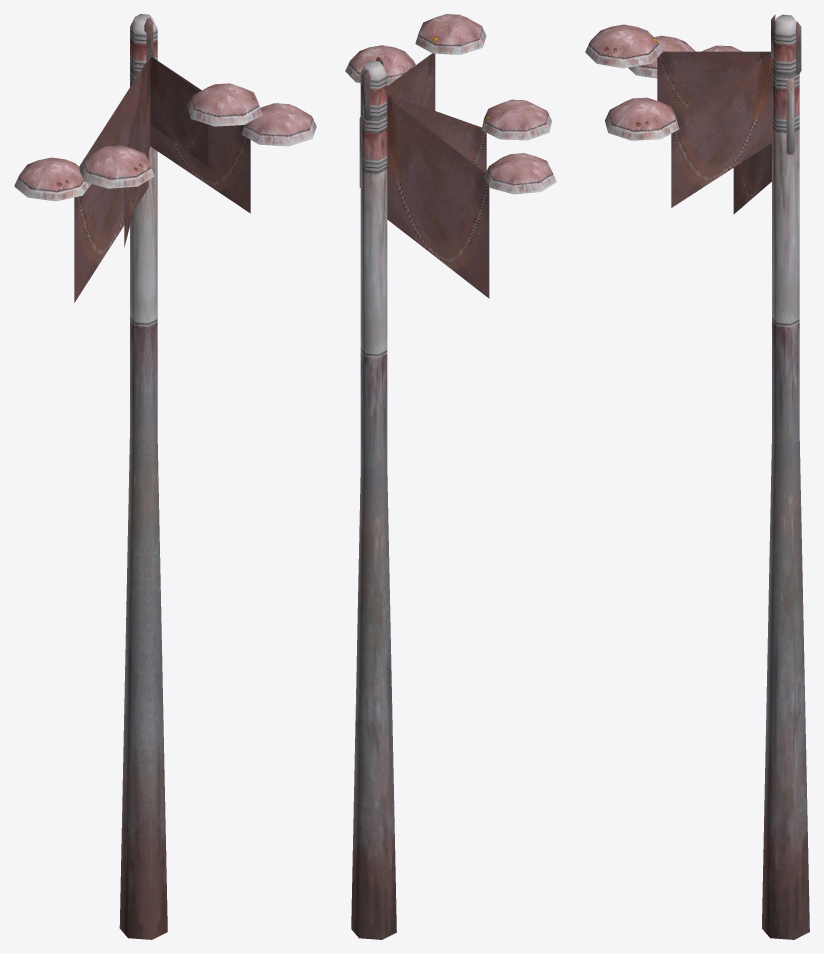
Rendered from mun_all_imprv_streetlamp_m_s02_l0.fbx.
3 views of the same model, side by side, from view 1: azimuth 30°, elevation 25°; view 2: azimuth 150°, elevation 25°; view 3: azimuth 270°, elevation 25° (orthographic). The views are drawn at different scales.
Parts seen in each view (by area): view 1: mesh_node; view 2: mesh_node; view 3: mesh_node.
Boxes of the visible parts, left/top/right/bottom form: mesh_node: left=14, top=14, right=316, bottom=939; mesh_node: left=345, top=14, right=556, bottom=939; mesh_node: left=585, top=14, right=809, bottom=939.
Size of the model in its own units: 0.8557 by 2.99 by 0.6663.
